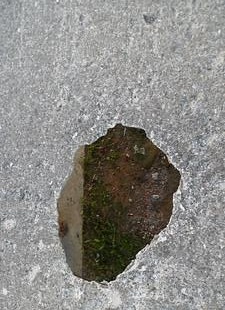Spalling: (56, 122, 182, 285)
